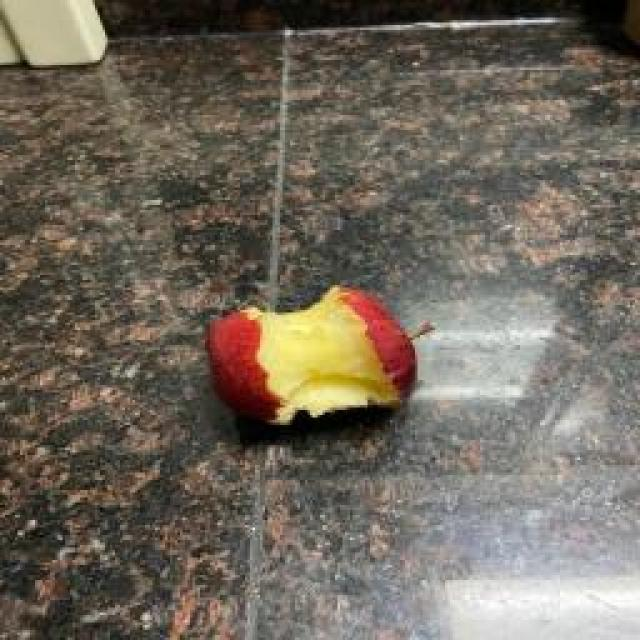Apple: (206, 286, 416, 425)
